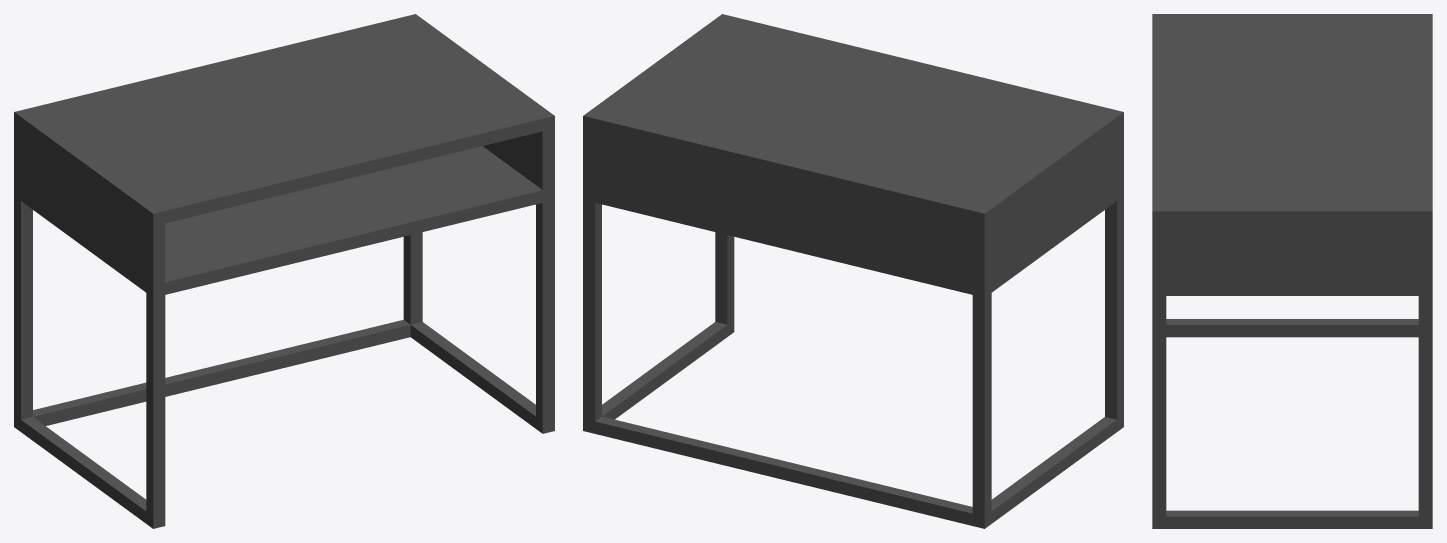
The model's file is PC_Table2_C2.fbx.
The picture shows the model from 3 angles, left to right: view 1: azimuth 30°, elevation 25°; view 2: azimuth 150°, elevation 25°; view 3: azimuth 270°, elevation 25°; orthographic projection.
Visible parts, largest first — view 1: PC_Table2_C2; view 2: PC_Table2_C2; view 3: PC_Table2_C2.
Boxes of the visible parts, bbox=[...] form: PC_Table2_C2: bbox=[14, 14, 554, 528]; PC_Table2_C2: bbox=[583, 14, 1123, 528]; PC_Table2_C2: bbox=[1152, 14, 1432, 528].
Size of the model in its own units: 100 by 75 by 60.
